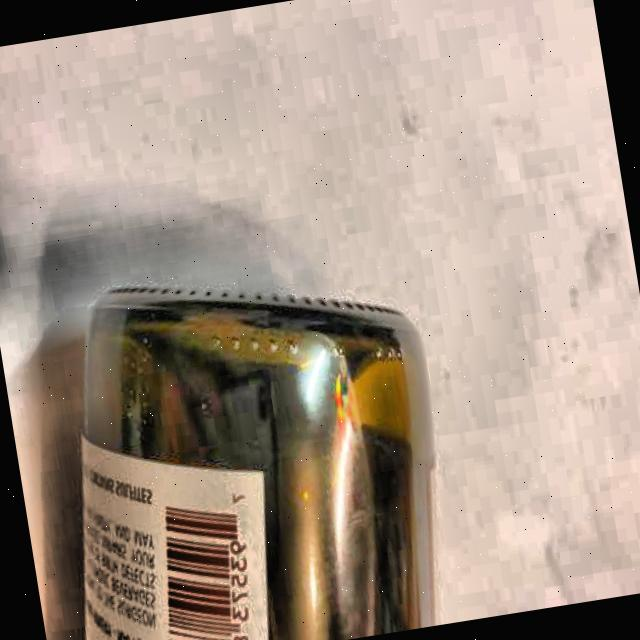glass: (26, 236, 472, 640)
